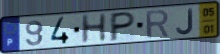4: (49, 16, 71, 46)
9: (24, 19, 45, 47)
H: (79, 12, 108, 45)
J: (175, 7, 195, 36)
P: (108, 11, 137, 44)
R: (144, 8, 171, 40)
